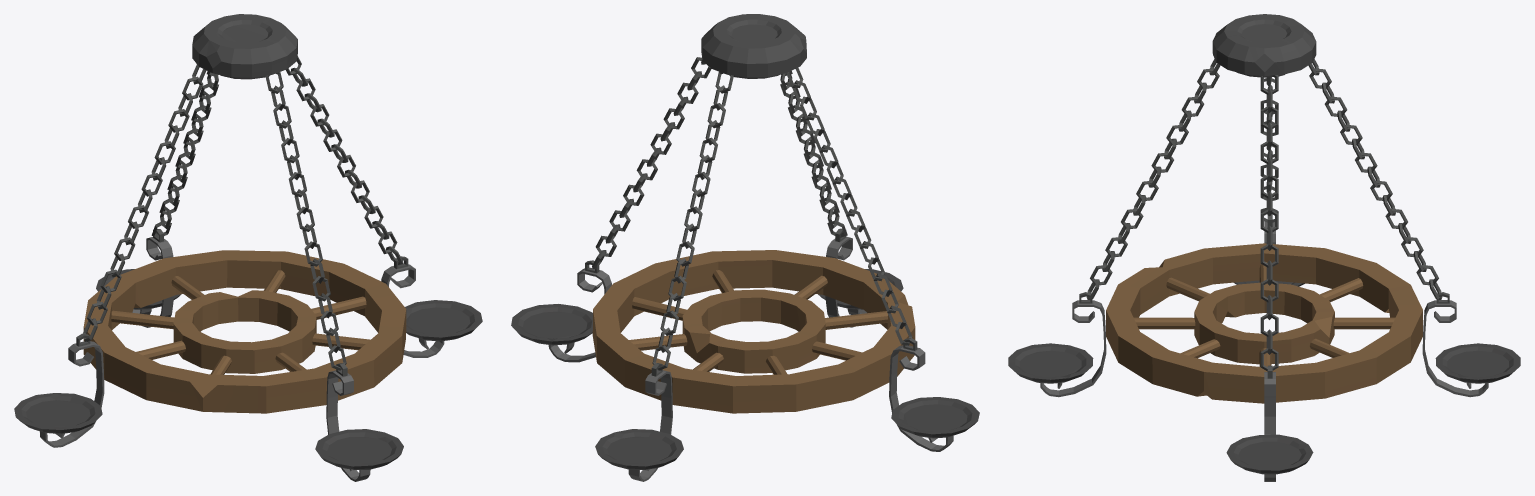
File: SFHW_Chandelier_001.fbx
The picture shows the model from 3 angles, left to right: view 1: azimuth 30°, elevation 25°; view 2: azimuth 150°, elevation 25°; view 3: azimuth 270°, elevation 25°; orthographic projection. The views are drawn at different scales.
Visible parts, largest first — view 1: SFHW_Chandelier_001; view 2: SFHW_Chandelier_001; view 3: SFHW_Chandelier_001.
Boxes of the visible parts, x1,y1,x2,y2 form: SFHW_Chandelier_001: [14, 14, 482, 481]; SFHW_Chandelier_001: [511, 14, 979, 481]; SFHW_Chandelier_001: [1008, 14, 1520, 481].
Size of the model in its own units: 305 by 237 by 305.
